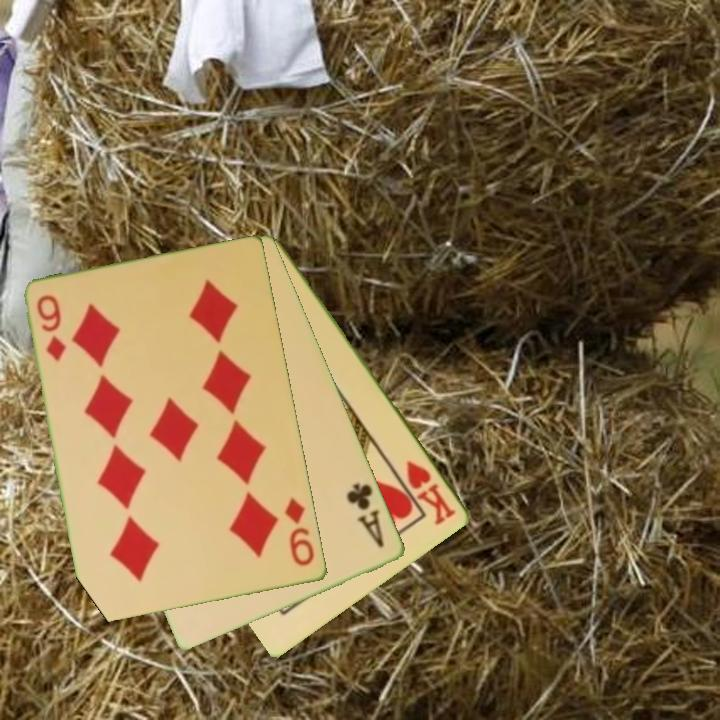9d: (281, 494, 318, 569), (33, 291, 69, 364)
Ac: (343, 479, 388, 551)
Kh: (403, 457, 460, 528)
